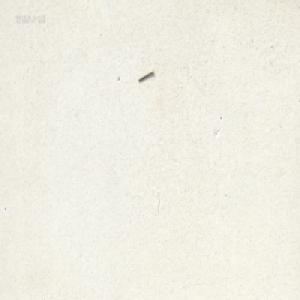Bolt: (137, 69, 154, 82)
